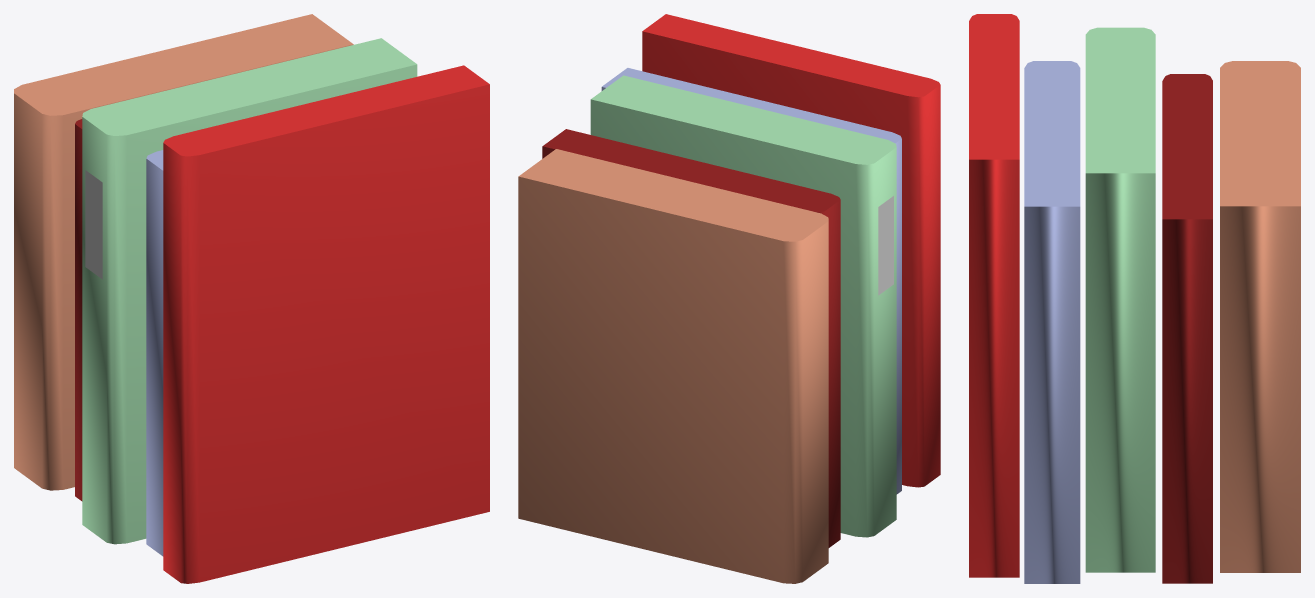
Rendered from books.gltf.
3 views of the same model, side by side, from view 1: azimuth 30°, elevation 25°; view 2: azimuth 150°, elevation 25°; view 3: azimuth 270°, elevation 25° (orthographic). The views are drawn at different scales.
Parts seen in each view (by area): view 1: books; view 2: books; view 3: books.
Part boxes in pixels (left/top/right/bottom): books: left=14, top=14, right=489, bottom=583; books: left=518, top=14, right=940, bottom=583; books: left=969, top=14, right=1300, bottom=583.
Bounding box in the file's own units: 0.8143 × 1 × 0.7201.
